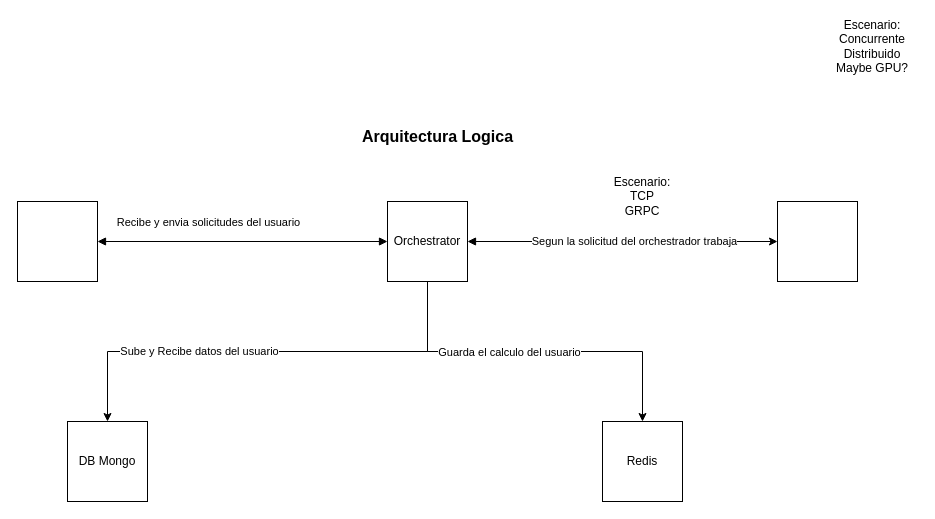
This 935x519 diagram has some shape labels left out. Here are the shapes that lost their labels. From the top down, the centre of each, then its label:
At point 57,241: "Frontend".
At point 817,241: "Core Nodes".
